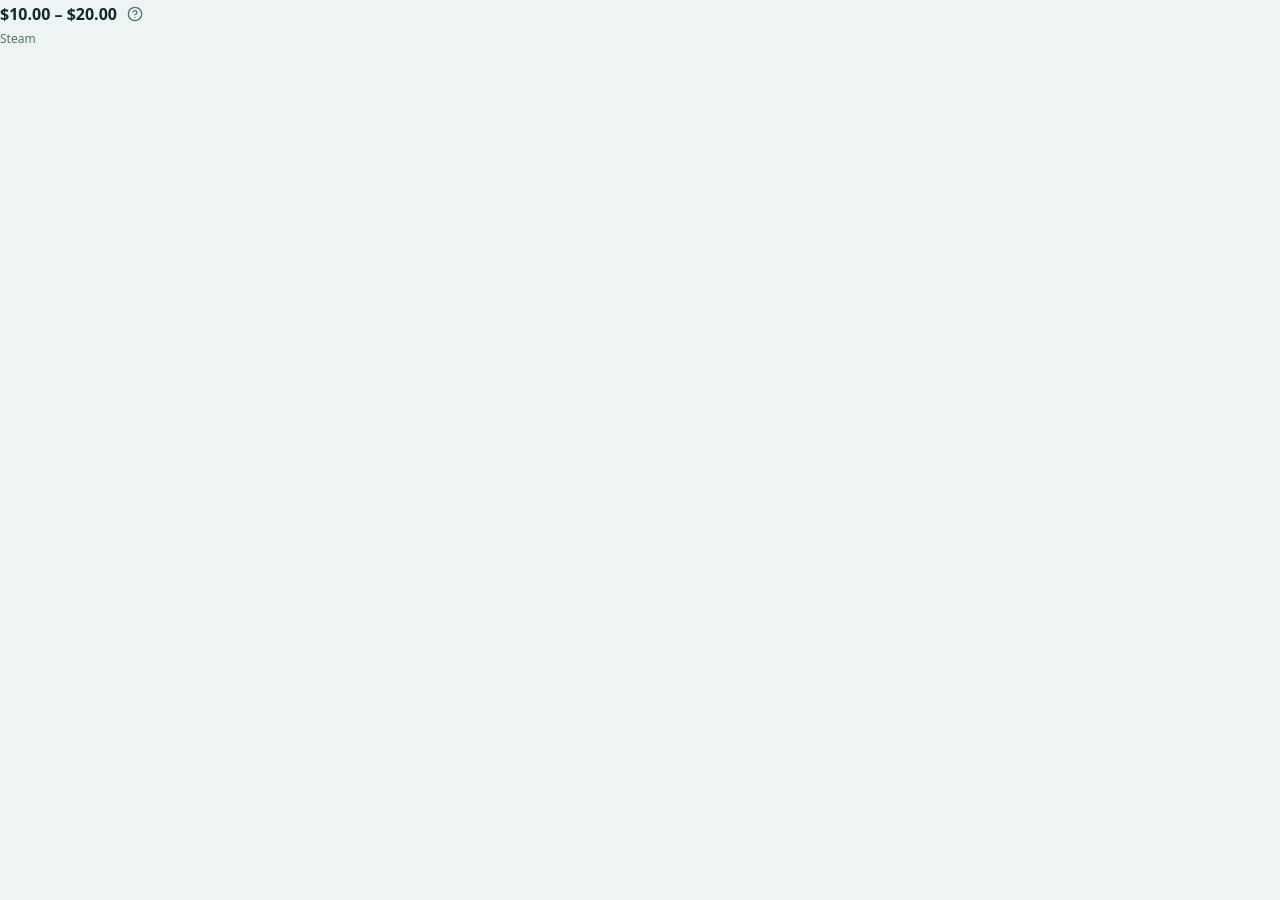
Scenario: preço mínimo compacto com ajuda por linha (D370) › faixa do grupo: um "?" só, com o texto da faixa
Step 1. Click the button named "Help:" → (135, 14), box [121,0,149,28]
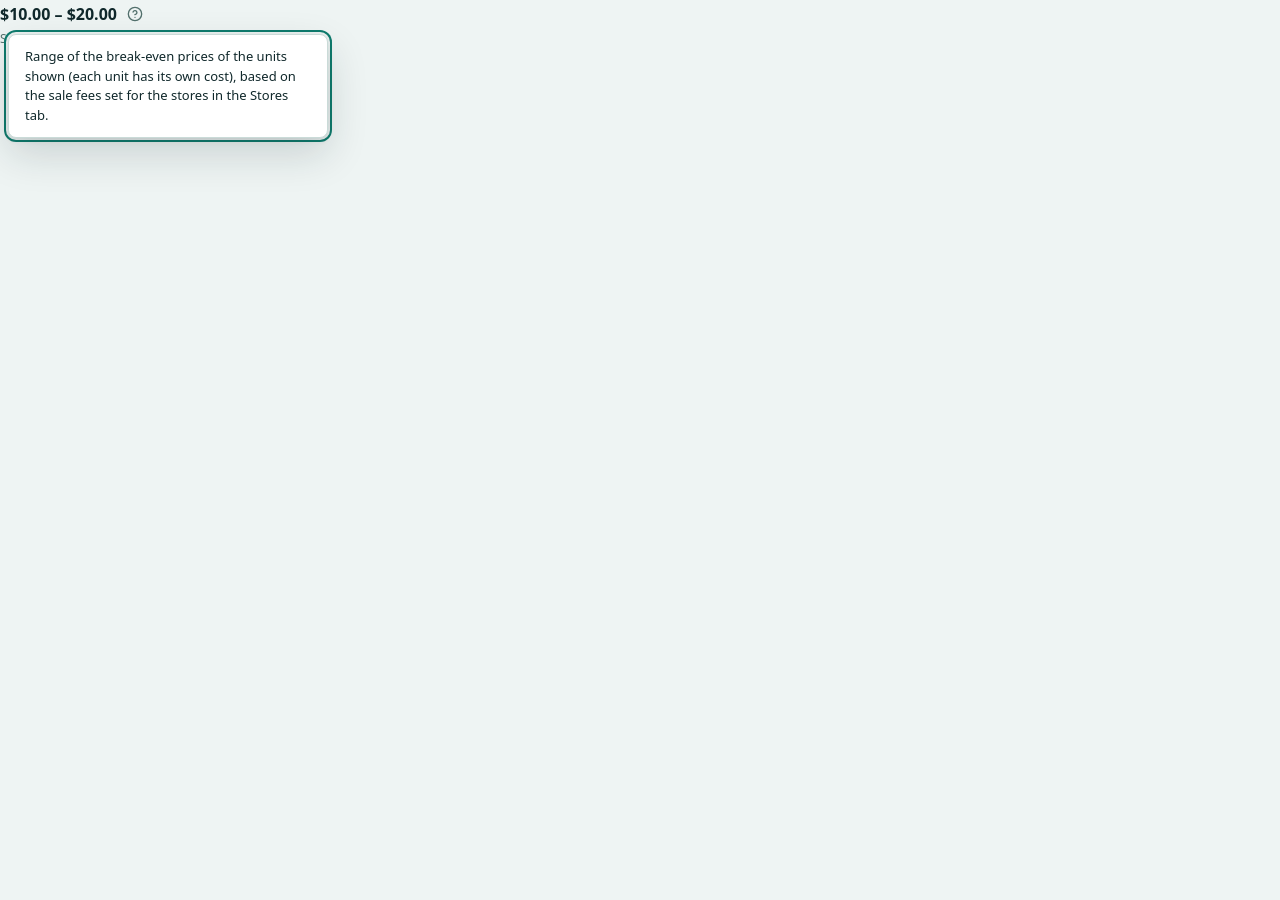
expect the text "Range of the break-even prices" is shown: met, box [25,47,296,124]
